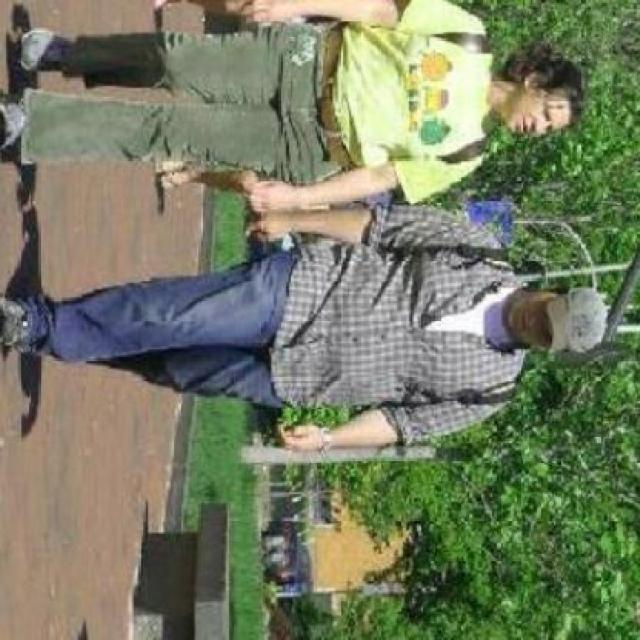Person: (1, 208, 605, 458), (0, 0, 578, 204)
